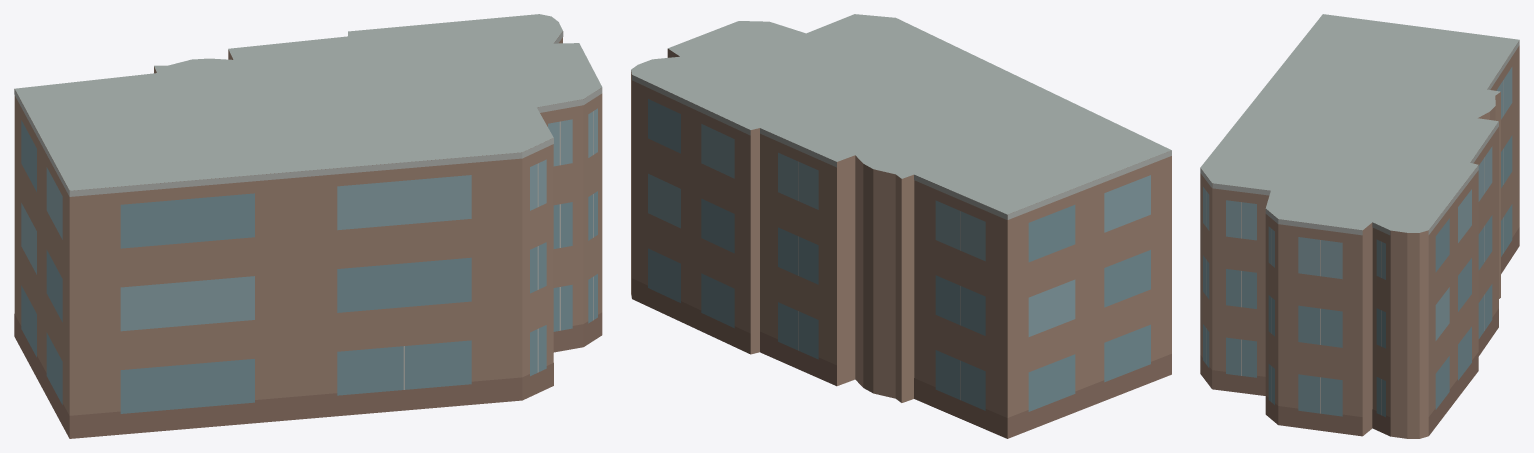
File: survey-upis-32734327.glb
3 renders of one model, left to right at view 1: azimuth 30°, elevation 25°; view 2: azimuth 150°, elevation 25°; view 3: azimuth 270°, elevation 25°, orthographic. The views are drawn at different scales.
Parts seen in each view (by area): view 1: survey-upis-32734327.tmp; view 2: survey-upis-32734327.tmp; view 3: survey-upis-32734327.tmp.
Part boxes in pixels (bbox=[...]): survey-upis-32734327.tmp: bbox=[14, 14, 602, 438]; survey-upis-32734327.tmp: bbox=[631, 14, 1171, 438]; survey-upis-32734327.tmp: bbox=[1200, 14, 1519, 438].
Bounding box in the file's own units: 22.33 × 9.8 × 13.78.
